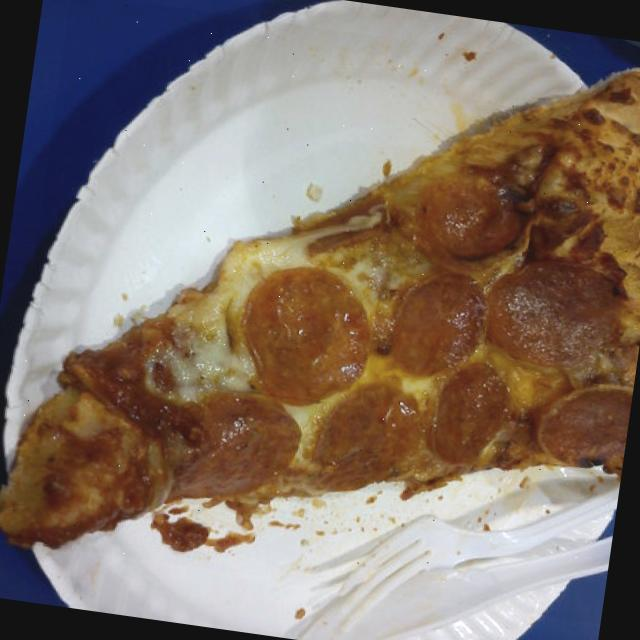pepperoni: (228, 257, 380, 408), (476, 254, 626, 380), (304, 373, 438, 504), (65, 330, 213, 448), (373, 257, 492, 388), (178, 387, 302, 509), (409, 163, 537, 276), (419, 365, 524, 470), (534, 378, 634, 473)
pizza: (0, 72, 640, 547)
